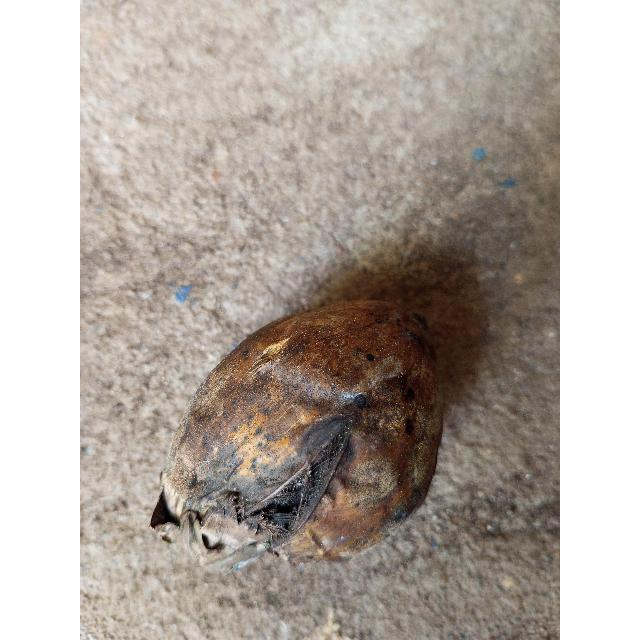damaged: (149, 296, 462, 575)
